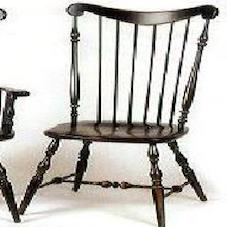chair: (18, 3, 208, 222)
